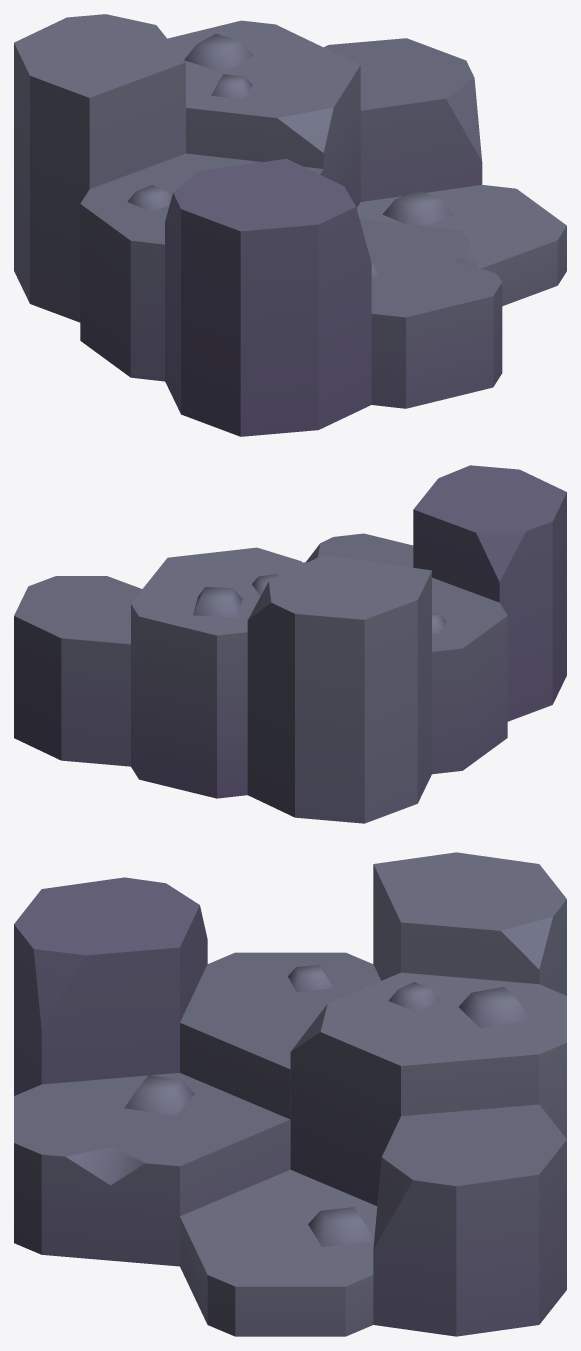
File: rocks-ramp.glb
The picture shows the model from 3 angles, top to bottom: view 1: azimuth 30°, elevation 25°; view 2: azimuth 150°, elevation 25°; view 3: azimuth 270°, elevation 25°; orthographic projection. The views are drawn at different scales.
Visible parts, largest first — view 1: rocks-ramp; view 2: rocks-ramp; view 3: rocks-ramp.
Boxes of the visible parts, box(x1,y1,x2,y2) form: rocks-ramp: box(14, 14, 566, 436); rocks-ramp: box(14, 465, 566, 823); rocks-ramp: box(14, 852, 566, 1336).
Bounding box in the file's own units: 1 × 0.5 × 1.
